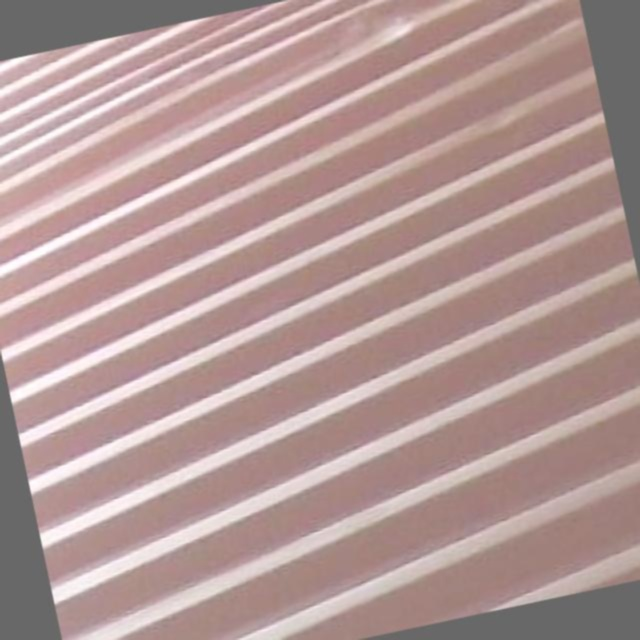Dent: (135, 1, 502, 140)
